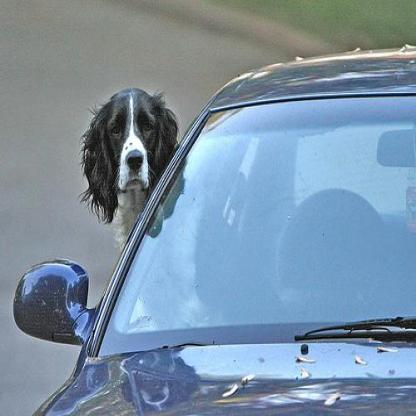English_springer: (82, 87, 294, 332)
